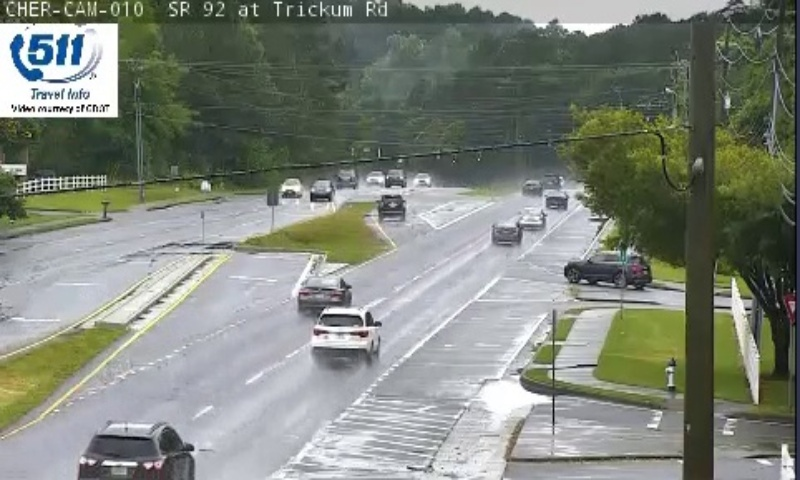car: (76, 422, 194, 480), (310, 306, 380, 357), (297, 276, 351, 315), (491, 221, 521, 247), (516, 207, 544, 229), (378, 194, 406, 216)
